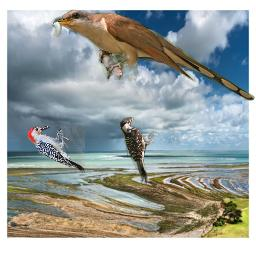Cuckoo: (48, 9, 255, 101)
Woodpecker: (28, 126, 85, 172), (120, 117, 154, 184)
